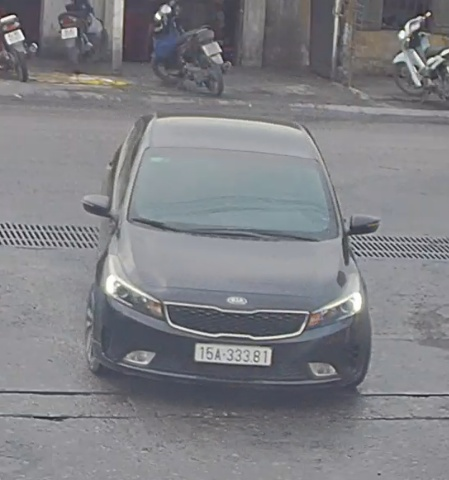vehicle plate: (193, 337, 274, 365)
